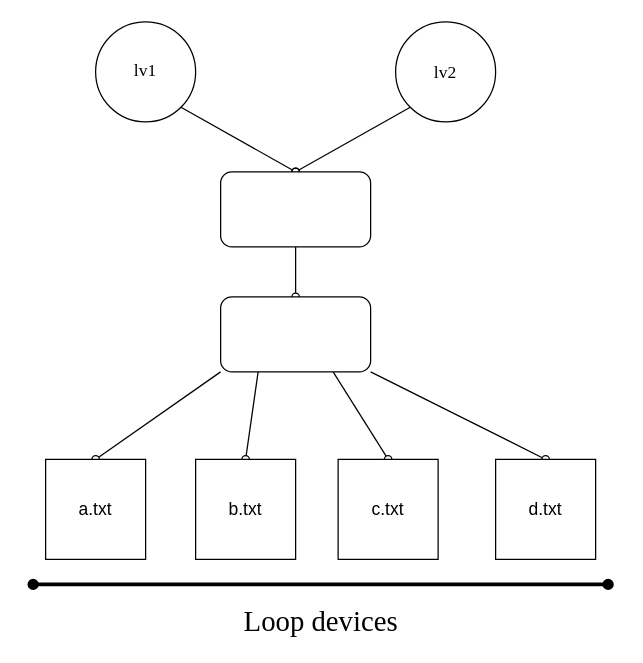
Image size: 643x663. Some labels were removed from this diagram. Each missing label, with the box of its shape:
/dev/md5: (219, 296, 371, 372)
vg00: (219, 171, 371, 247)
